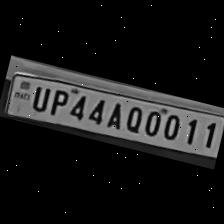0: (157, 107, 184, 141), (140, 105, 164, 137)
1: (195, 118, 220, 150), (178, 113, 202, 146)
4: (64, 88, 90, 122), (82, 92, 108, 125)
A: (101, 96, 127, 130)
P: (43, 84, 70, 118)
Q: (120, 101, 146, 134)
U: (26, 80, 52, 114)
